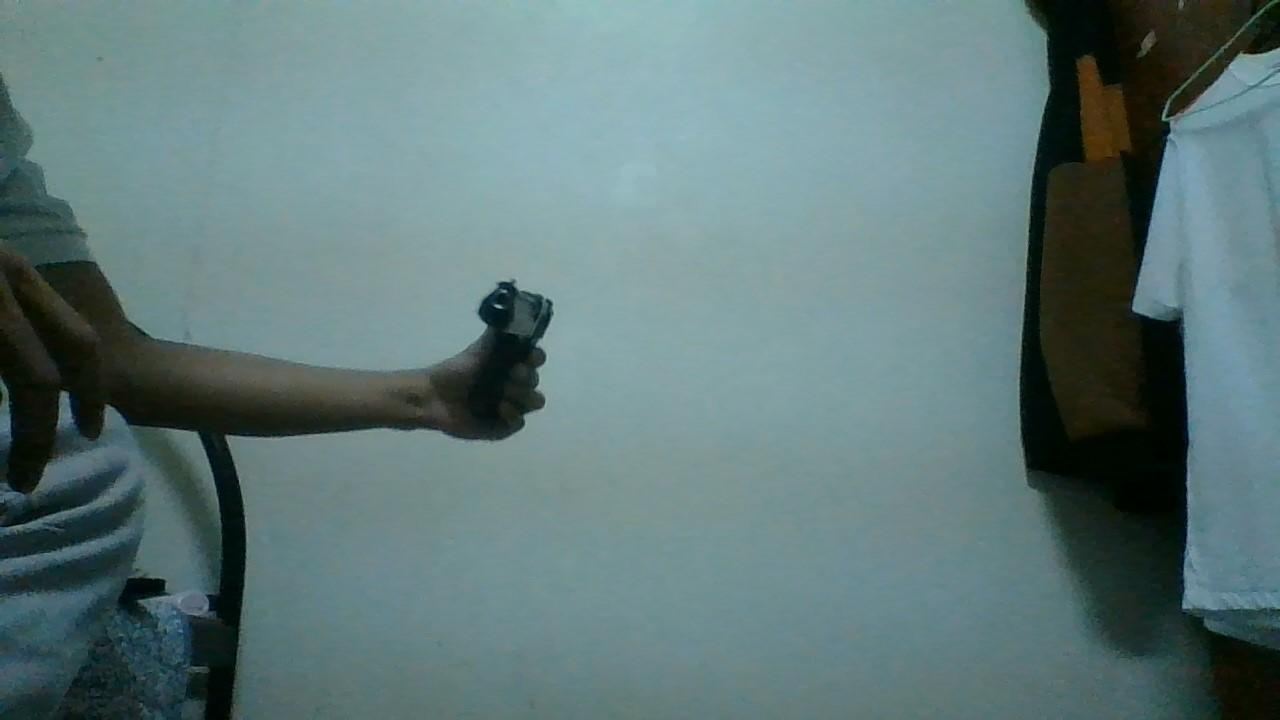weapon: (472, 272, 560, 380)
